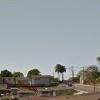Tree: (52, 57, 75, 83)
